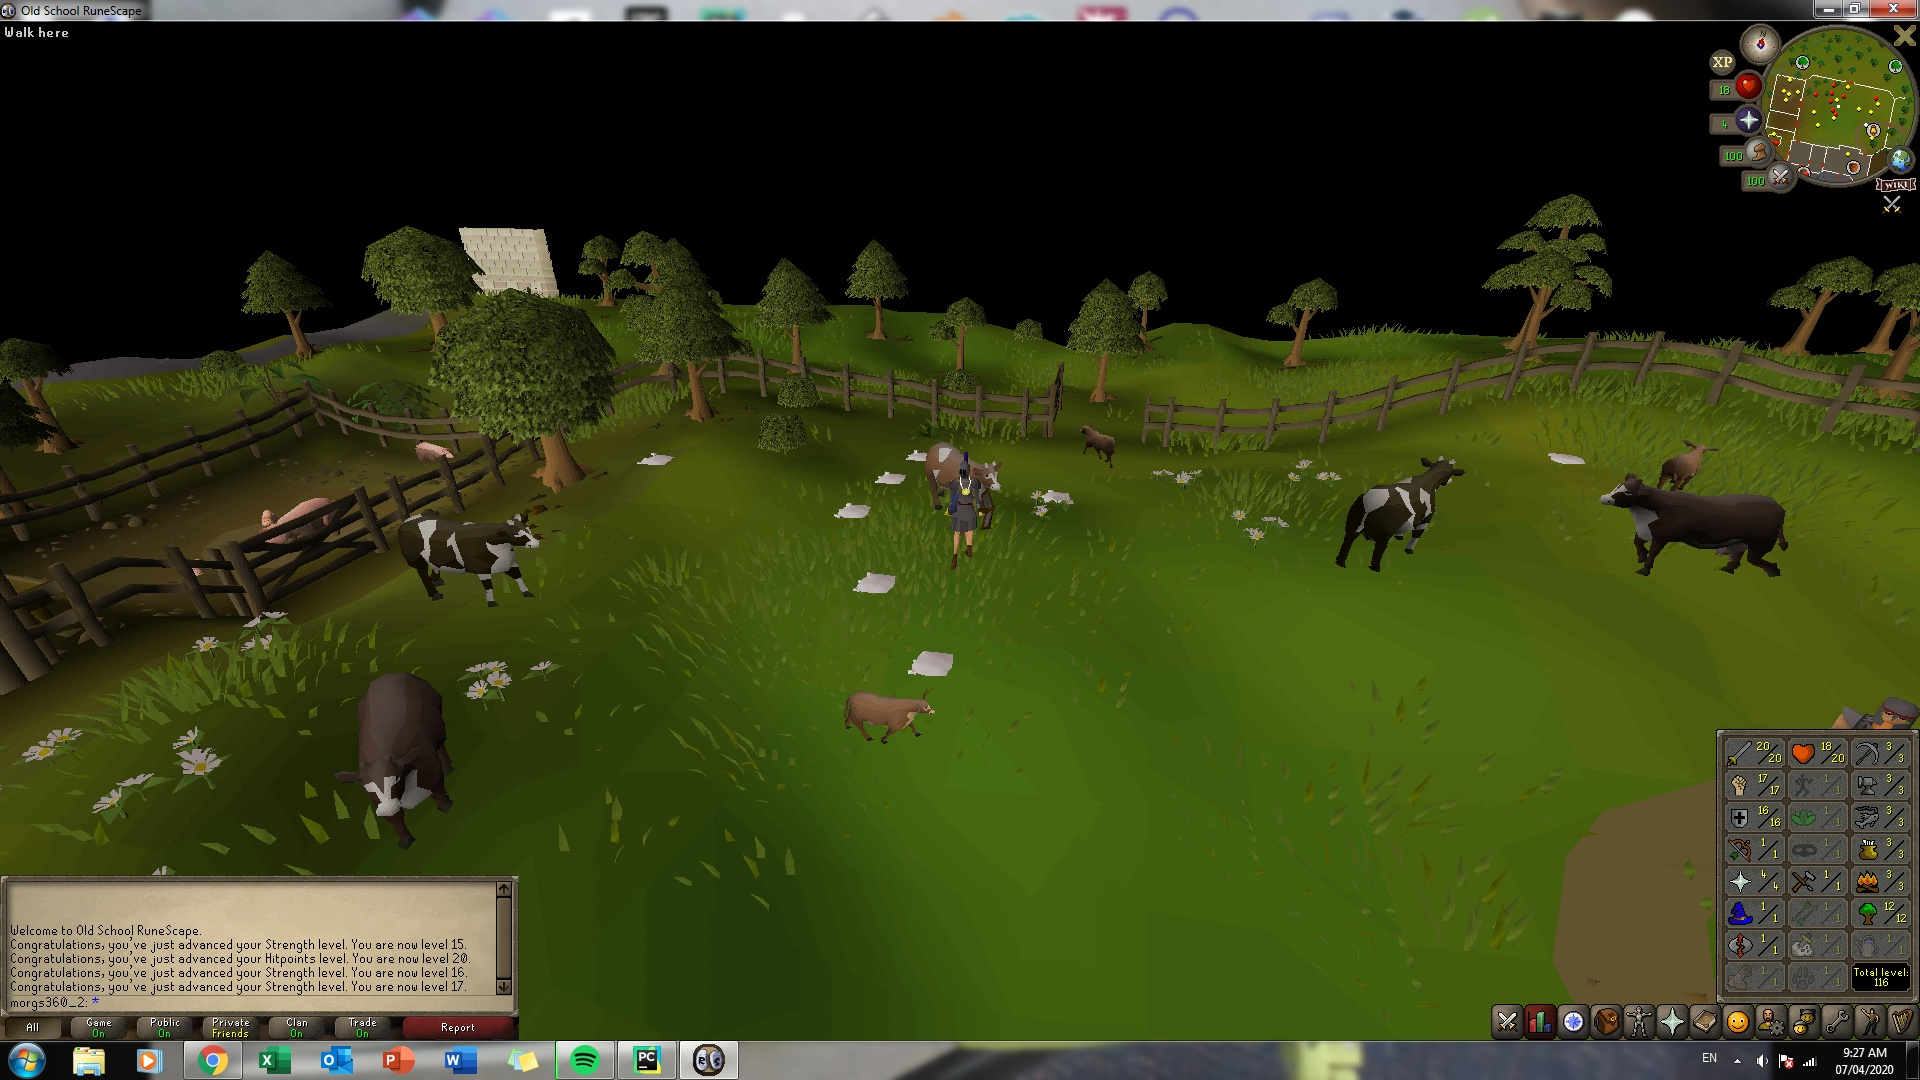cow: (340, 670, 452, 850), (1599, 474, 1786, 580), (1336, 453, 1467, 581), (395, 511, 538, 611), (843, 688, 936, 746), (1652, 439, 1720, 491), (923, 439, 952, 516), (1079, 422, 1120, 464)
player: (947, 457, 986, 568)
